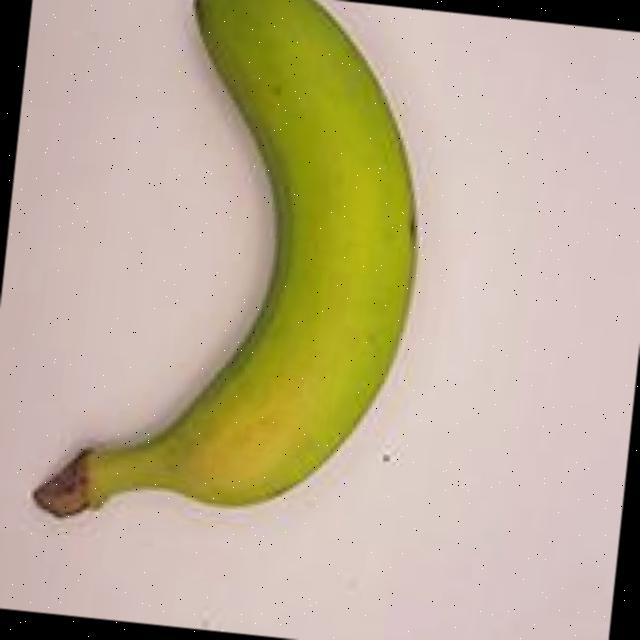Unripe: (0, 0, 469, 581)
